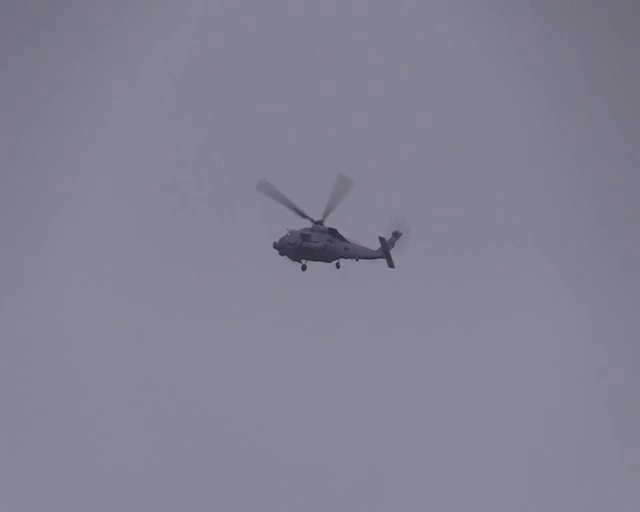HELICOPTER: (257, 171, 405, 272)
